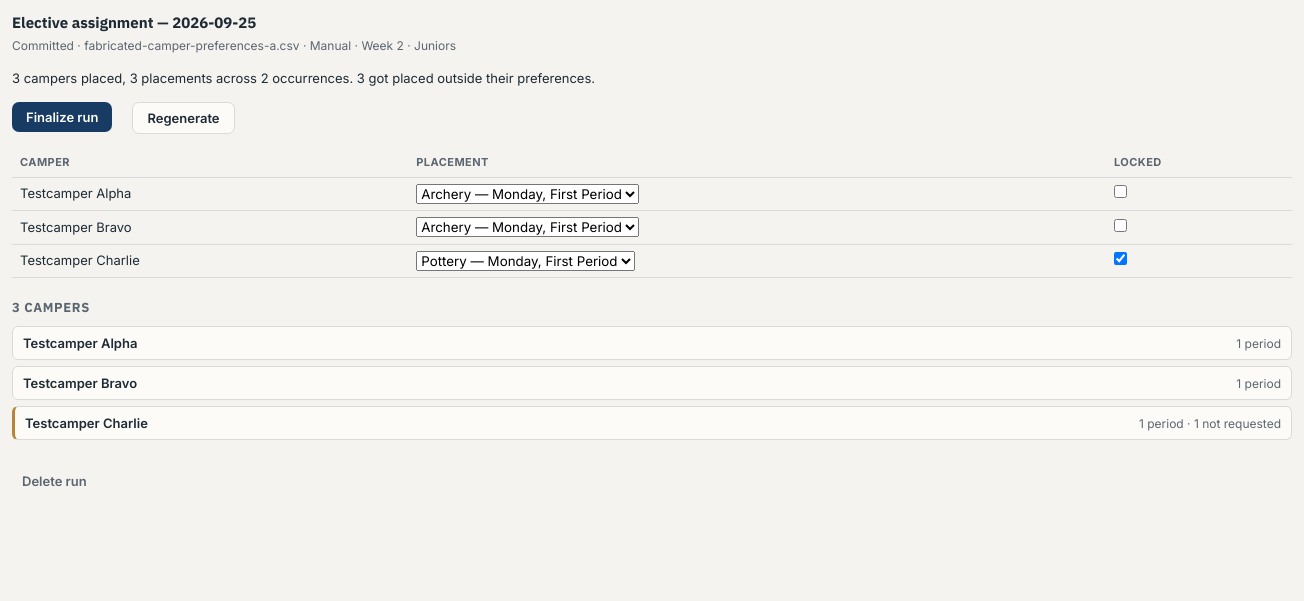
T250 A1 — Finalize run › a SECOND, DIFFERENT refusal from a second Finalize click re-focuses
What coordinates should you click on to do the following:
click the button "Finalize run"
I would click on:
 (62, 117)
Its box is [12,102,112,132].
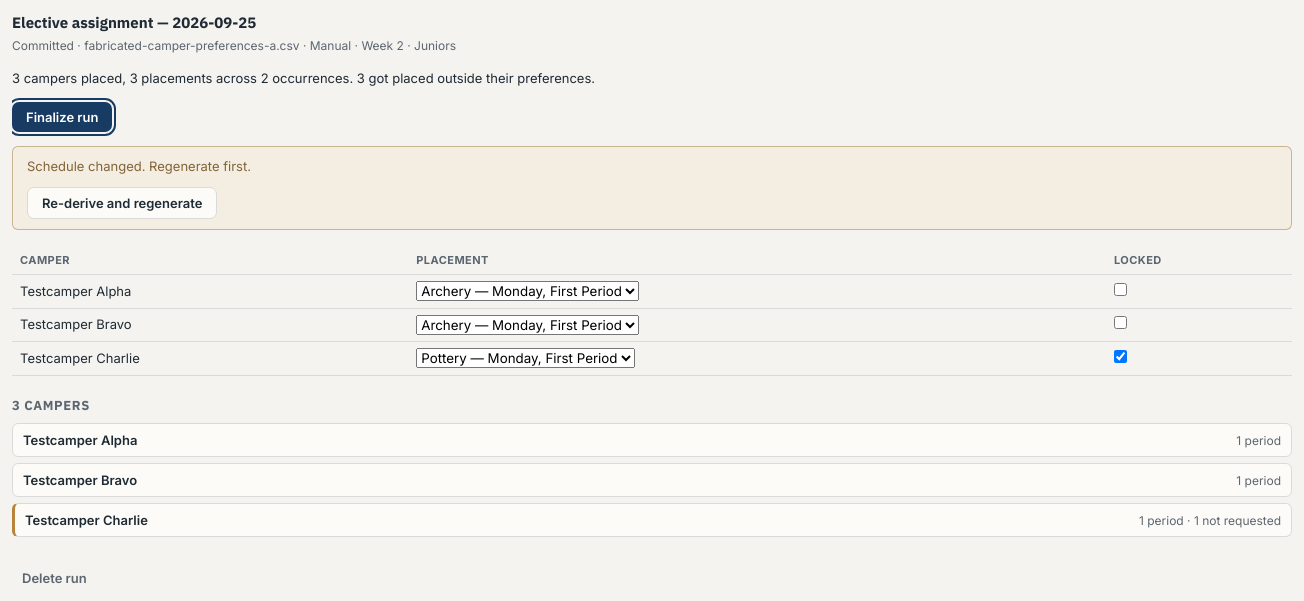
Expected: the message reads "Schedule changed. Regenerate first.", [27,158,251,174]
What coordinates should you click on to do the following:
click the button "Finalize run"
I would click on:
 (62, 117)
Its box is [12,102,112,132].
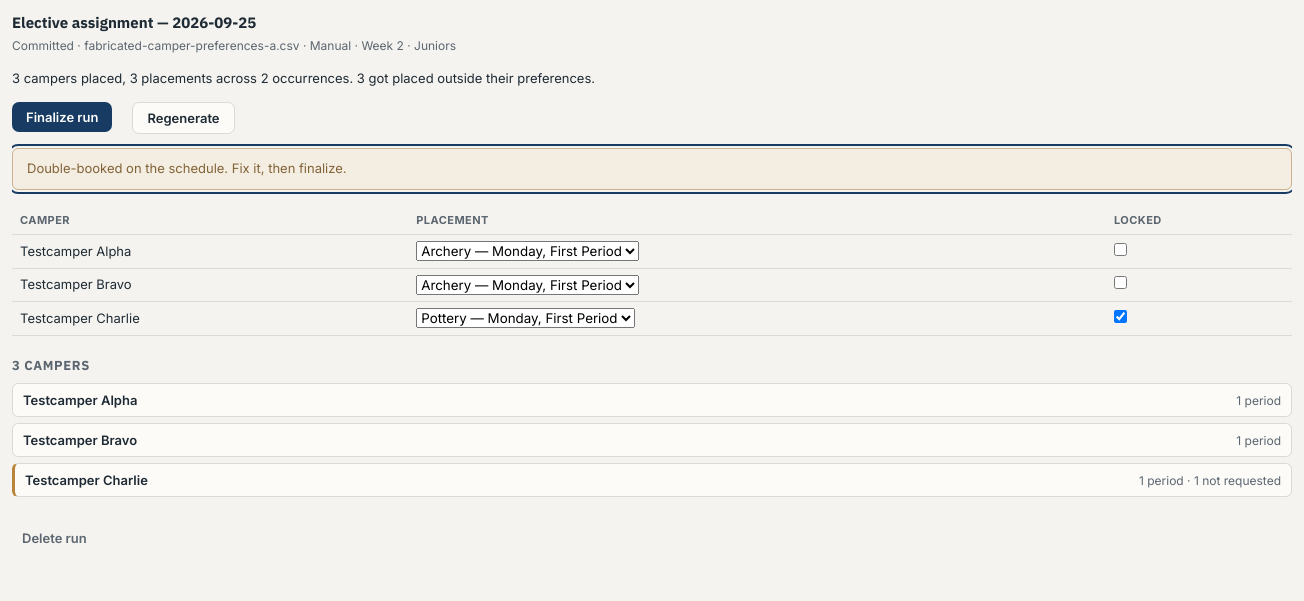
Expected: the message reads "Double-booked on the schedule. Fix it, then finalize.", [27,160,346,176]
